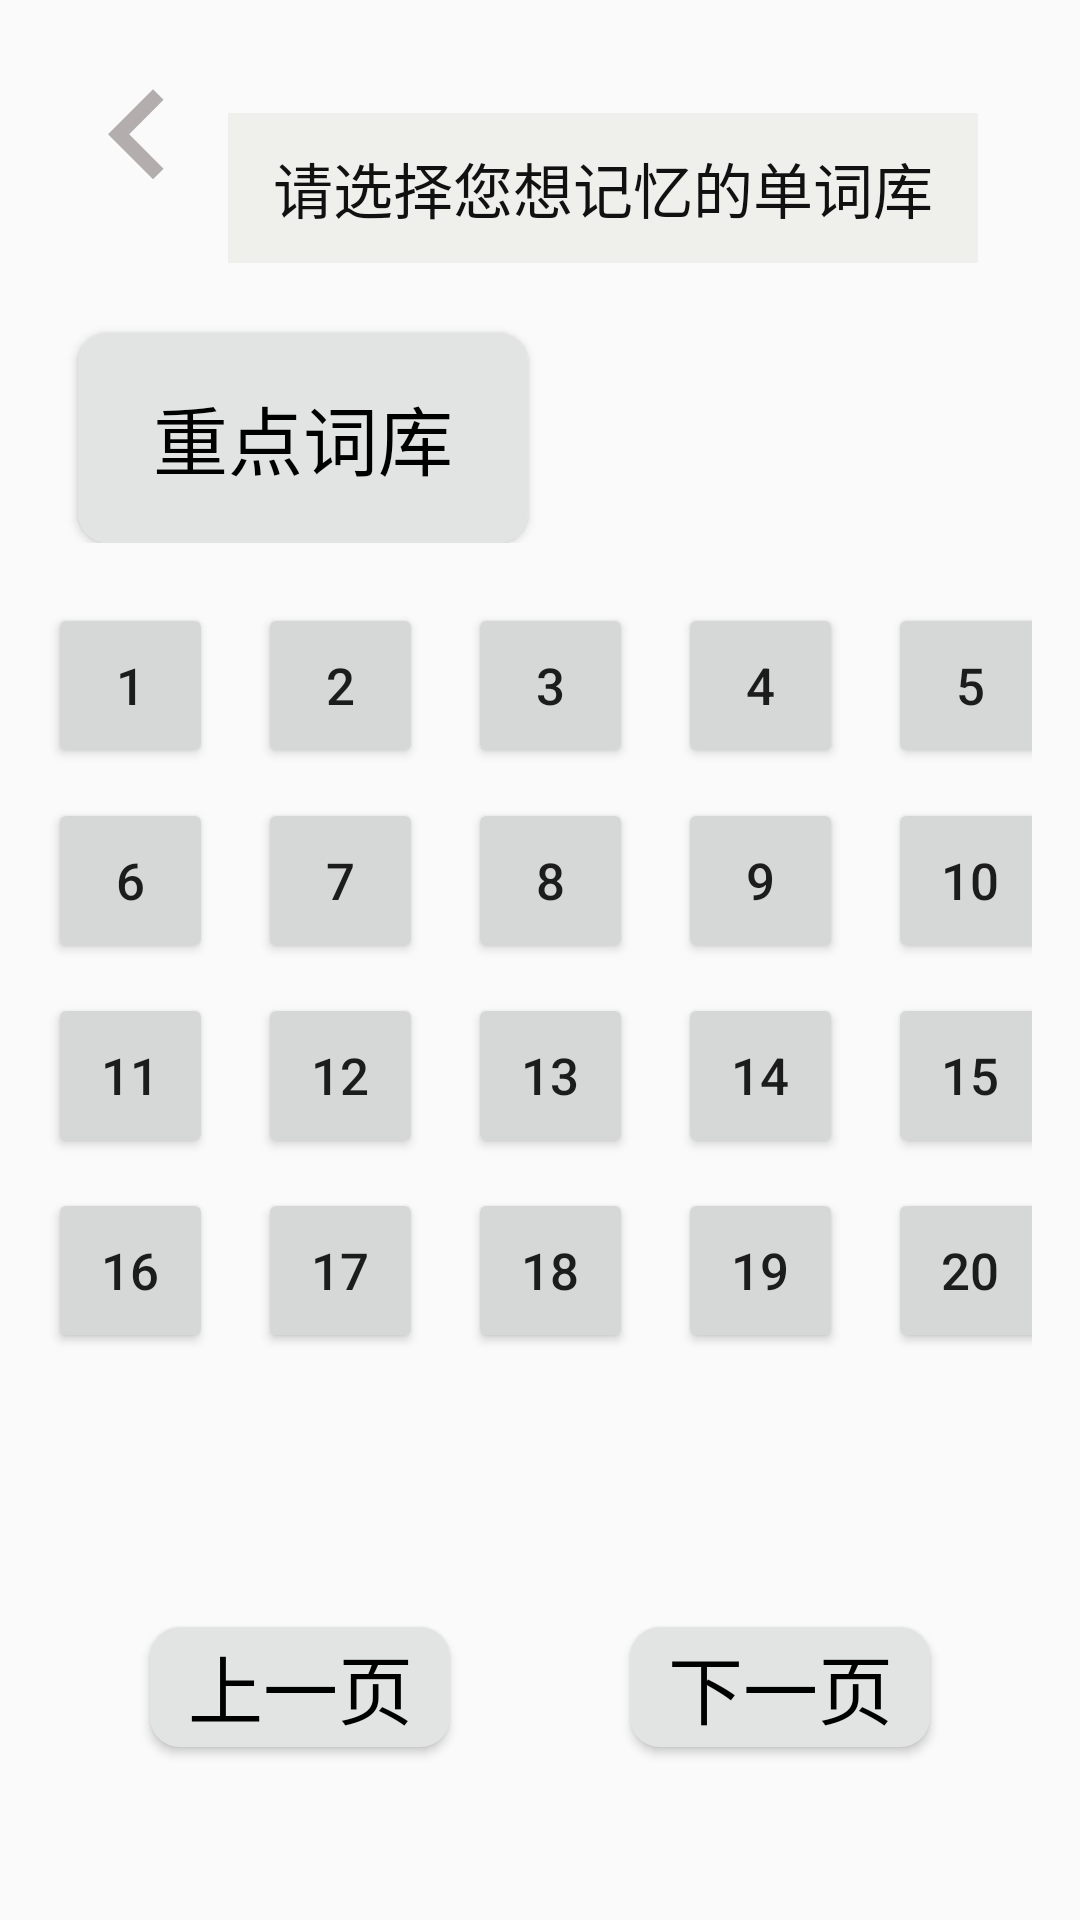

Icons on this 1080 x 1920 Android screen, each with its box as bbox=[x1, y1, x2, y2]:
keyboard arrow left: bbox=[108, 90, 163, 179]
